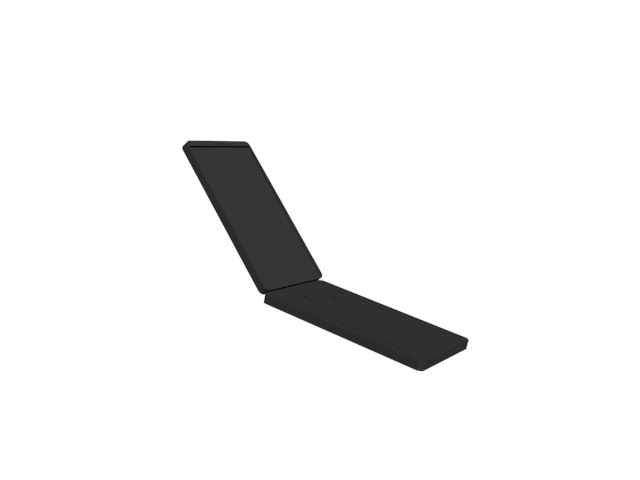mobile_phone: (177, 137, 472, 376)
